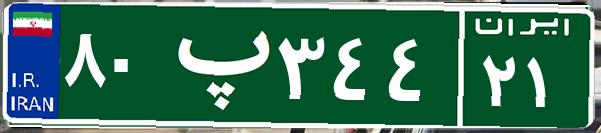0: (110, 28, 158, 105)
1: (525, 38, 570, 115)
2: (475, 38, 525, 113)
3: (273, 28, 330, 110)
4: (385, 28, 445, 110), (330, 28, 385, 110)
8: (57, 26, 110, 107)
پ: (158, 15, 273, 115)
